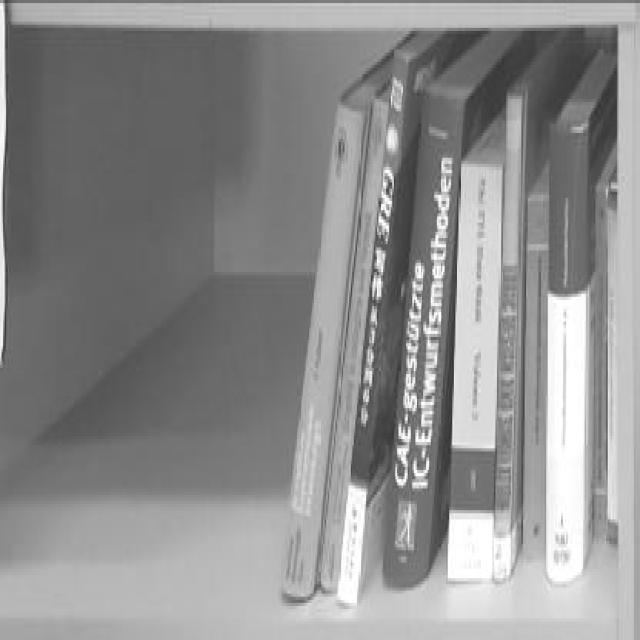book: (408, 88, 463, 579), (547, 103, 591, 589), (453, 153, 502, 584), (498, 70, 530, 583)
